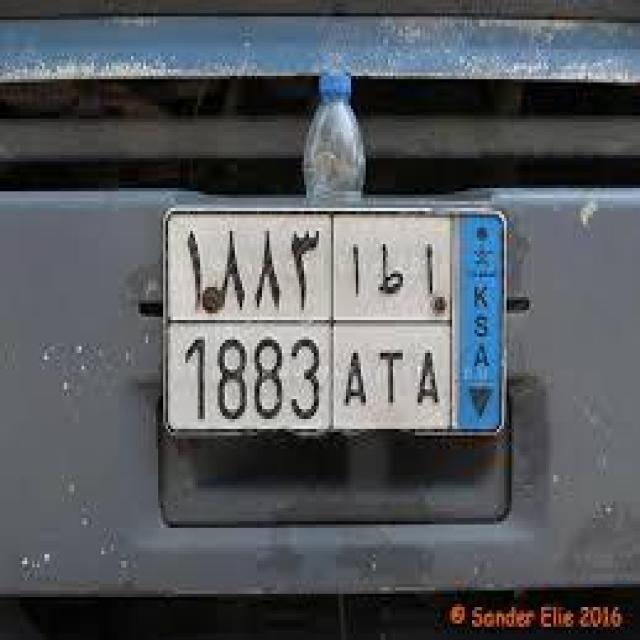license_plate: (134, 178, 504, 475)
